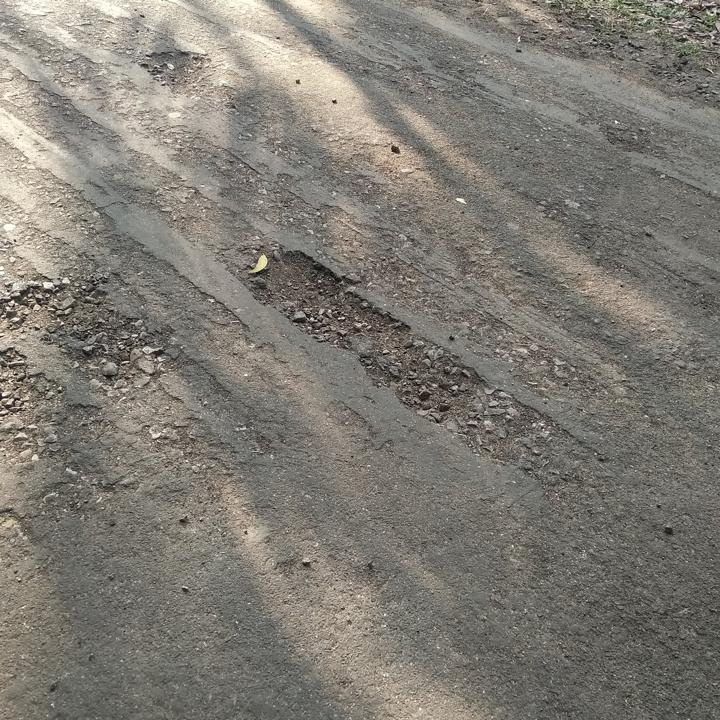pothole: (227, 242, 486, 426), (0, 270, 174, 393), (0, 344, 68, 420), (134, 43, 215, 101)
